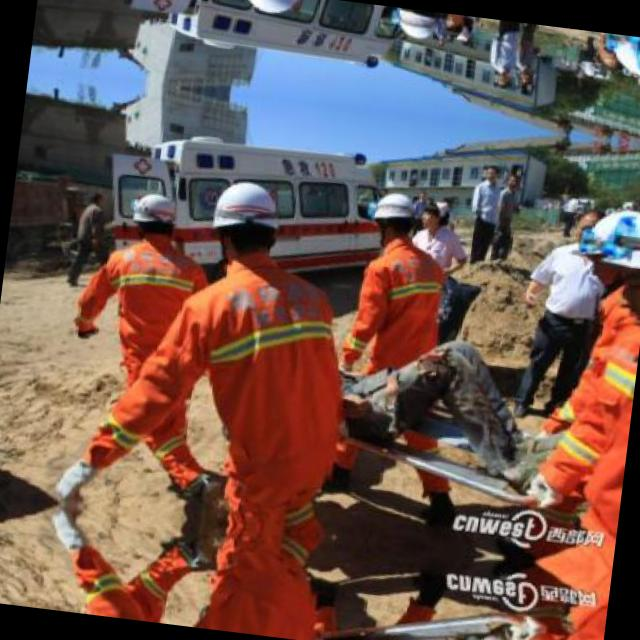helmet: (202, 172, 286, 272), (576, 206, 640, 290), (599, 194, 640, 320), (126, 190, 178, 248), (368, 188, 418, 246), (392, 7, 441, 43), (602, 33, 640, 79), (232, 0, 310, 22), (626, 36, 640, 95)
